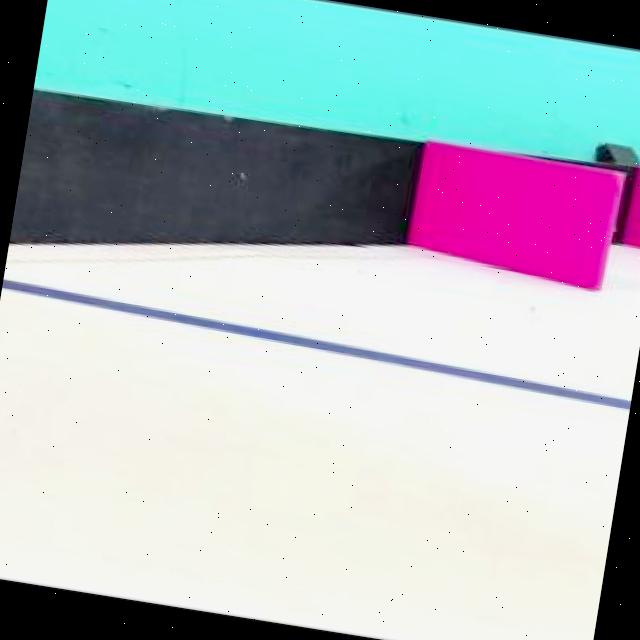xparking: (420, 154, 614, 288), (629, 175, 640, 250)
